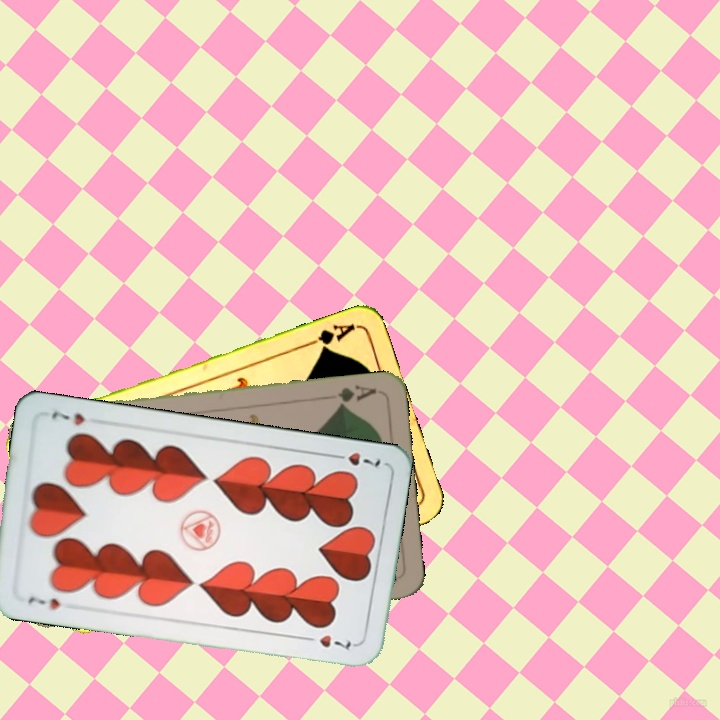GA: (301, 320, 358, 353), (321, 381, 379, 410)
H7: (327, 448, 383, 469), (24, 593, 63, 612)
